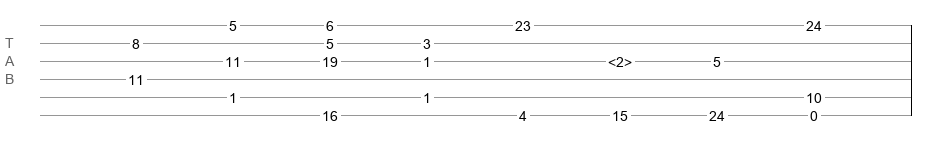0: (810, 108, 818, 118)
1: (229, 90, 237, 100), (423, 54, 431, 64), (423, 90, 431, 100)
10: (806, 90, 822, 100)
11: (128, 72, 144, 82), (225, 54, 241, 64)
15: (612, 108, 628, 118)
16: (322, 108, 338, 118)
19: (322, 54, 338, 64)
23: (515, 18, 531, 28)
24: (709, 108, 725, 118), (806, 18, 822, 28)
3: (423, 36, 431, 46)
4: (519, 108, 527, 118)
5: (229, 18, 237, 28), (326, 36, 334, 46), (713, 54, 721, 64)
6: (326, 18, 334, 28)
8: (132, 36, 140, 46)
harmonic: (608, 54, 632, 64)
